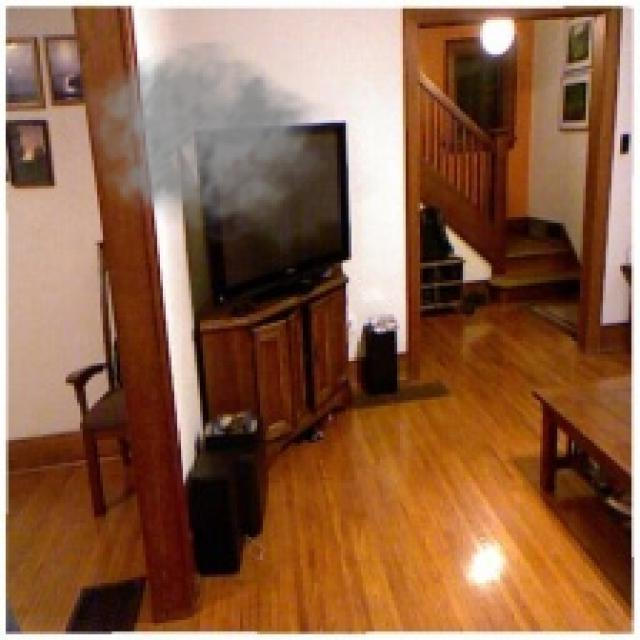Smoke: (83, 40, 334, 246)
